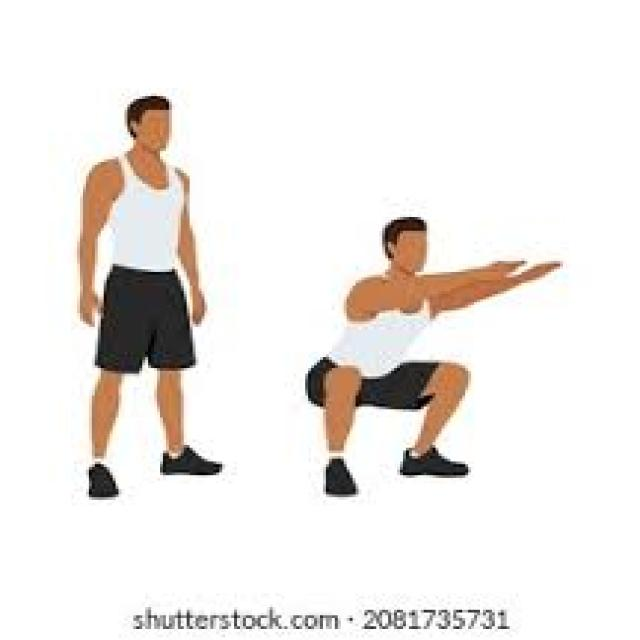squat: (301, 210, 561, 501)
